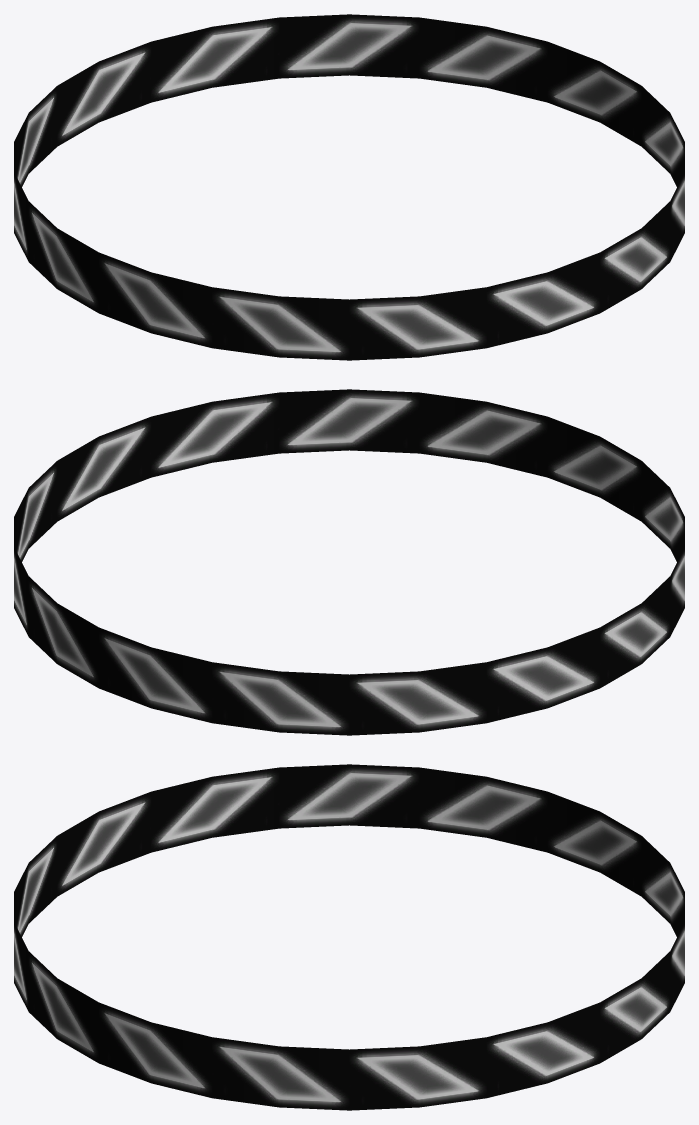
File: vfx_mesh_cylinder_01.fbx
3 renders of one model, top to bottom at view 1: azimuth 30°, elevation 25°; view 2: azimuth 150°, elevation 25°; view 3: azimuth 270°, elevation 25°, orthographic.
Parts seen in each view (by area): view 1: vfx_cylinder:pCylinder1; view 2: vfx_cylinder:pCylinder1; view 3: vfx_cylinder:pCylinder1.
Part boxes in pixels (x1,y1,x2,y2): vfx_cylinder:pCylinder1: [14, 14, 684, 360]; vfx_cylinder:pCylinder1: [14, 389, 684, 735]; vfx_cylinder:pCylinder1: [14, 764, 684, 1110].
Size of the model in its own units: 18.07 by 1.81 by 17.97.
